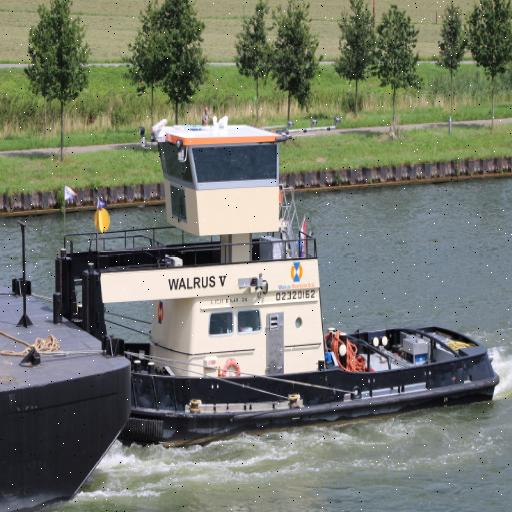tugboat: (53, 108, 505, 460)
